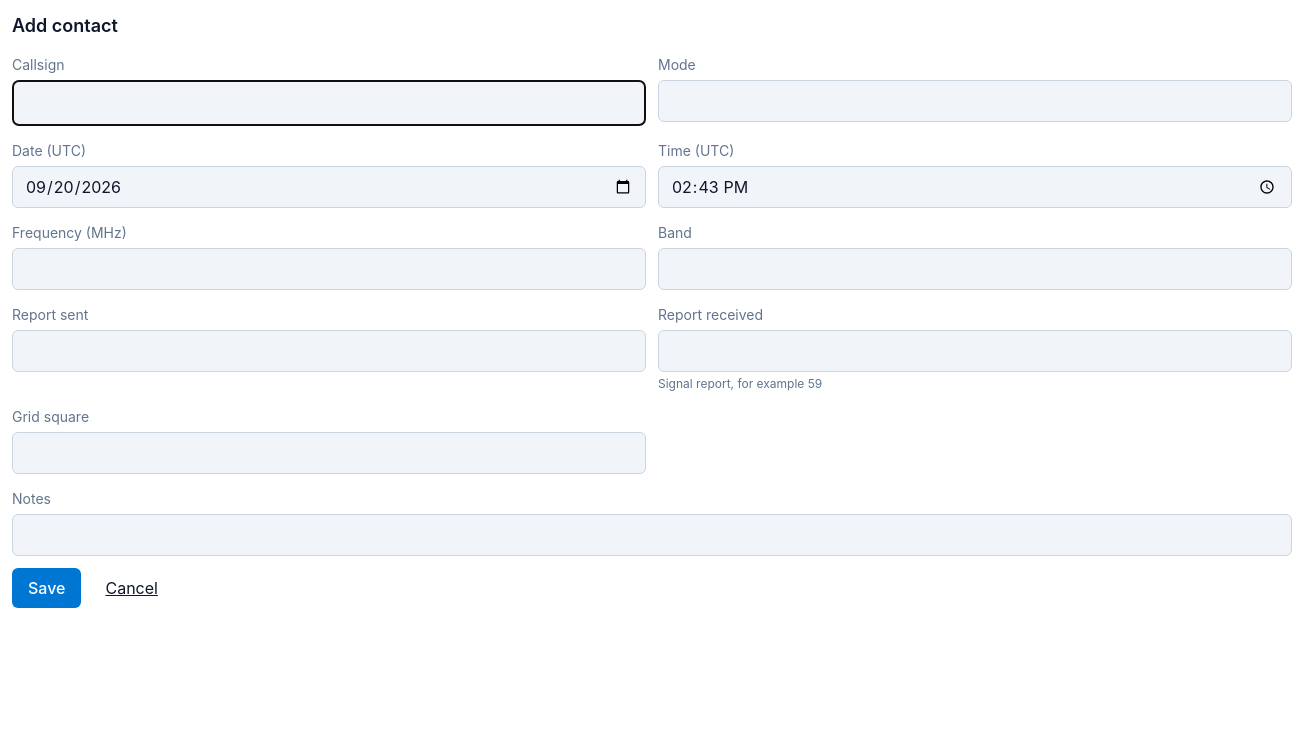
Test: QsoForm › will not save without a callsign or a mode
The image size is (1304, 732).
Click the button "Save" at coordinates (47, 588), box [12,568,82,608]
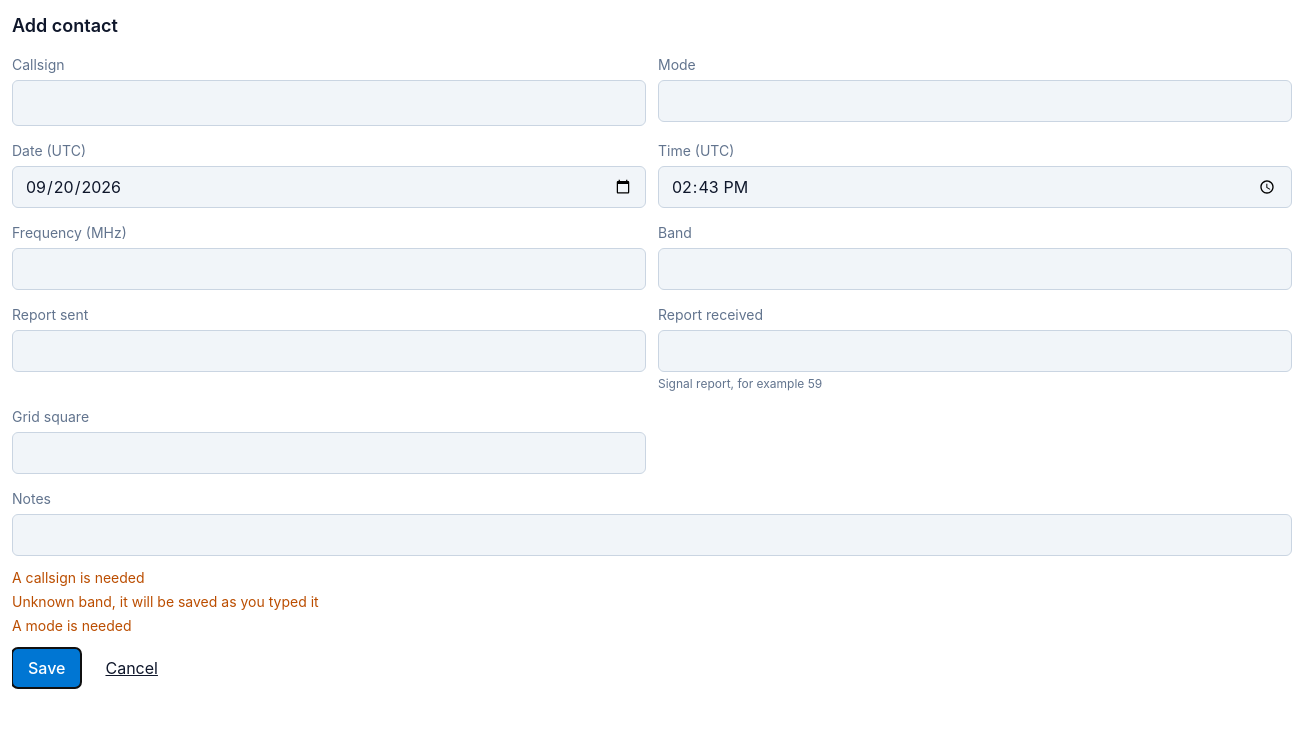
expect the list item "A callsign is needed" is shown: met, box [12,569,145,586]
expect the list item "A mode is needed" is shown: met, box [12,617,132,634]
